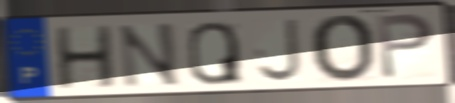H: (52, 23, 119, 91)
J: (255, 16, 305, 85)
N: (116, 20, 183, 90)
O: (307, 12, 376, 85)
P: (374, 11, 437, 82)
Q: (185, 19, 245, 86)
